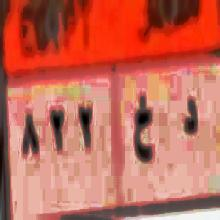2: (46, 99, 68, 160), (77, 95, 95, 157)
8: (20, 97, 41, 171)
daal: (180, 91, 199, 144)
khaa: (130, 85, 154, 173)
